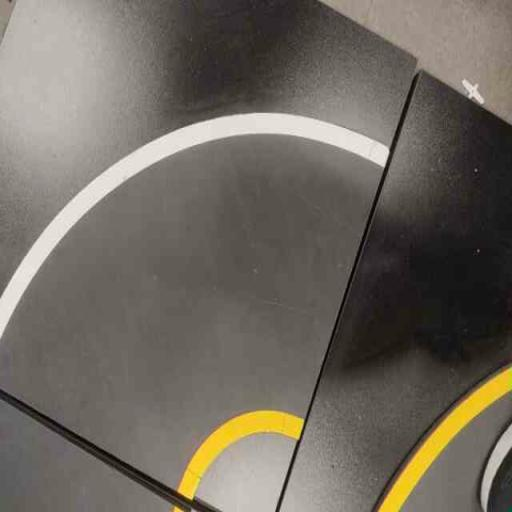left: (0, 28, 395, 504)
